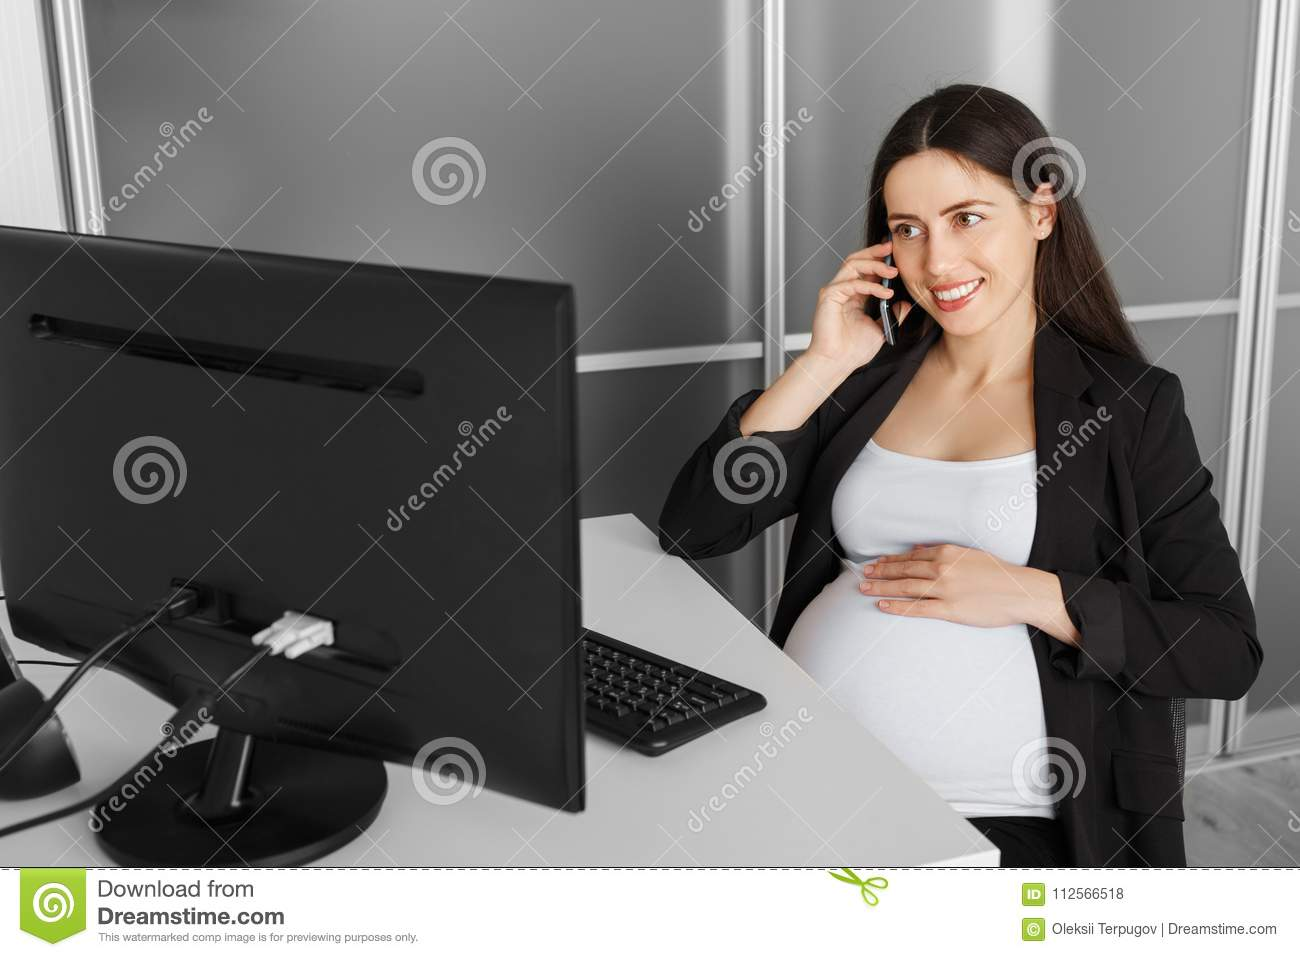phone: (870, 244, 915, 357)
talk: (807, 186, 1007, 380)
